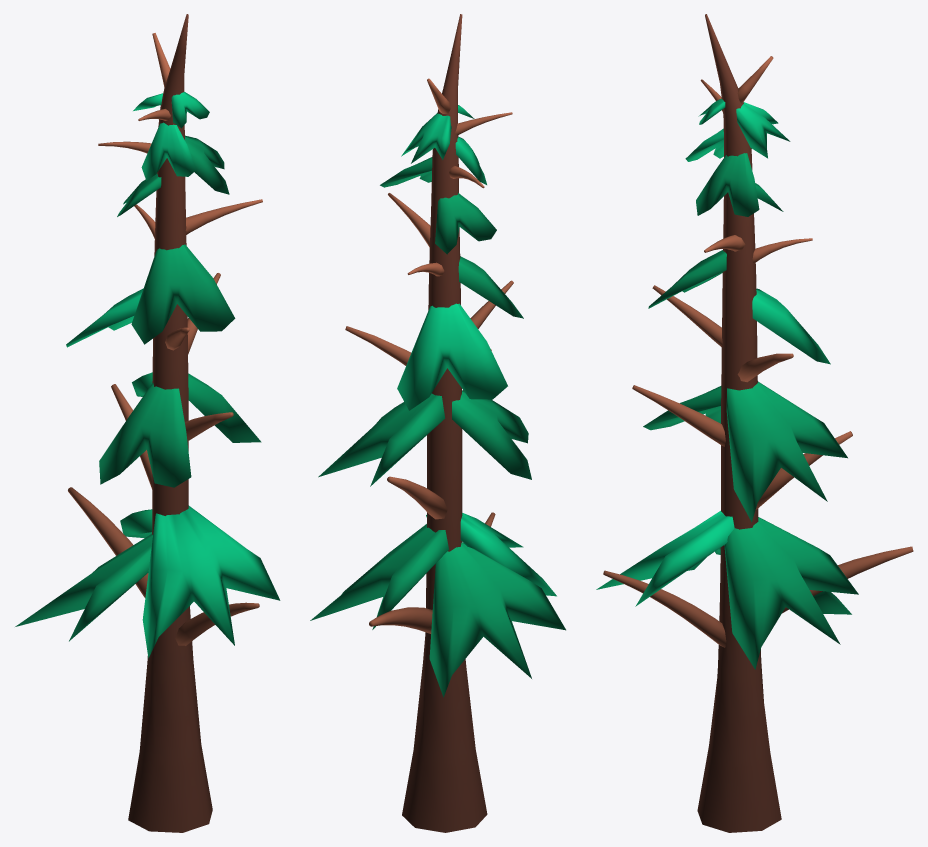
Rendered from Naked_Tree_01.fbx.
The picture shows the model from 3 angles, left to right: view 1: azimuth 30°, elevation 25°; view 2: azimuth 150°, elevation 25°; view 3: azimuth 270°, elevation 25°; orthographic projection. The views are drawn at different scales.
Visible parts, largest first — view 1: Naked_Tree_01; view 2: Naked_Tree_01; view 3: Naked_Tree_01.
Part boxes in pixels (x1,y1,x2,y2): Naked_Tree_01: (15,14,280,832); Naked_Tree_01: (310,14,565,832); Naked_Tree_01: (596,14,913,832).
Bounding box in the file's own units: 262 × 891 × 321.
